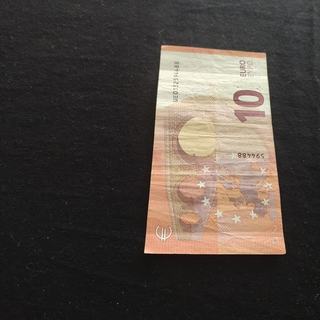10EUROBack: (143, 44, 287, 256)
